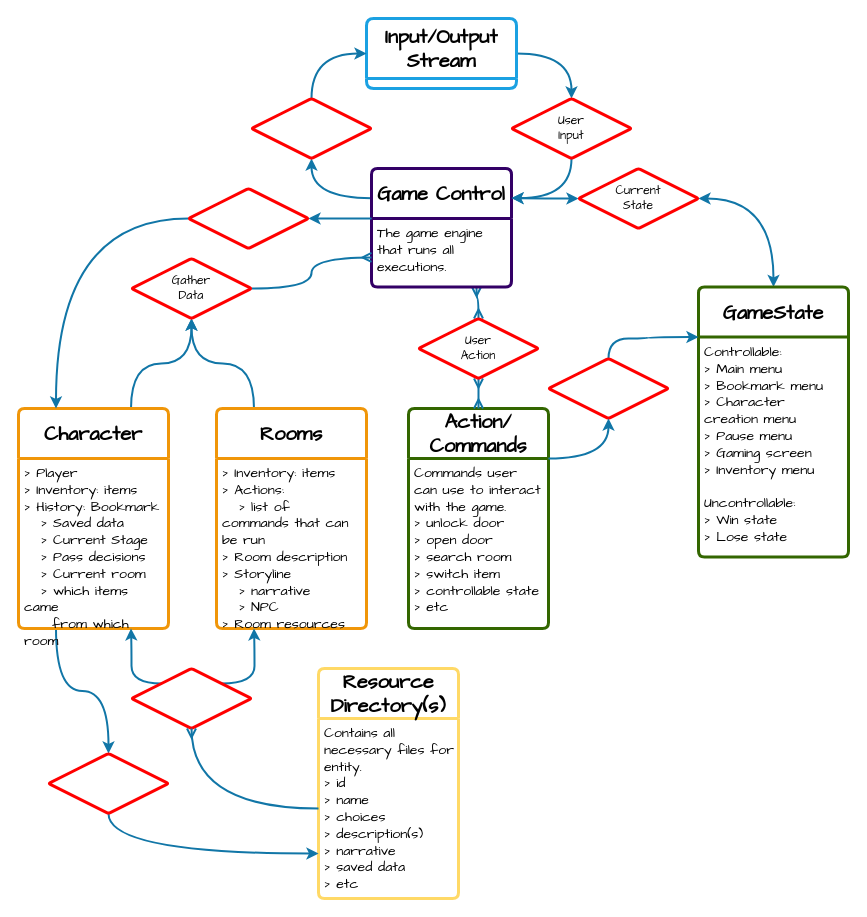
Some shapes in this 867 by 917 pixel diagram are drawn without their labels. The shapes that lost their labels are listed below. From the top down, each one's centre as x and y in pixels, then its label:
At (x=311, y=128): "Game Output".
At (x=248, y=218): "Update Data".
At (x=608, y=388): "User Enters C ontrolled State".
At (x=191, y=698): "Extract From Directory".
At (x=108, y=783): "Push Saved Data".
